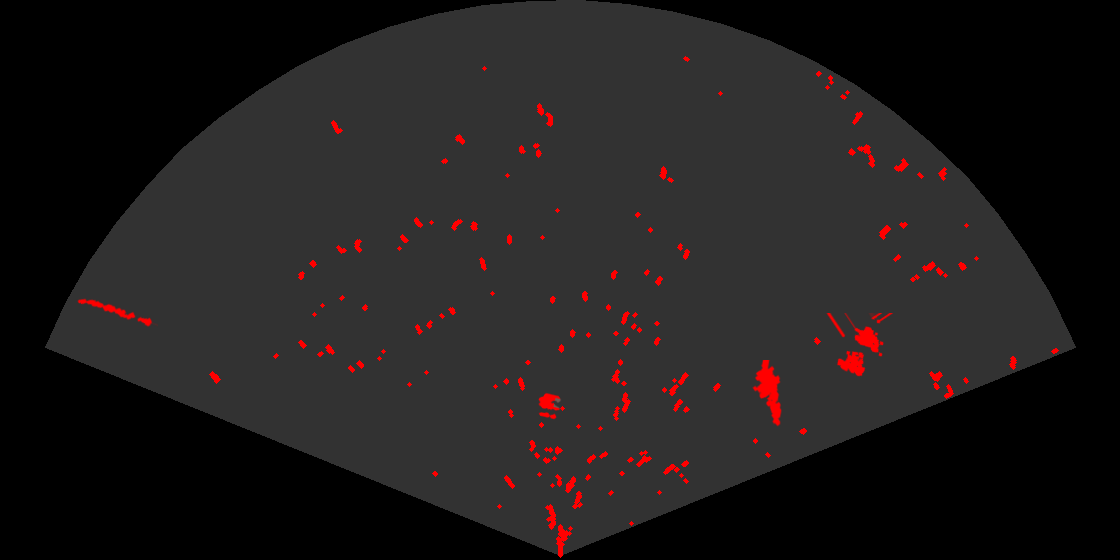ball: (537, 391, 562, 421)
cage: (825, 313, 895, 378)
chain: (76, 297, 158, 328)
frogman: (751, 360, 783, 427)
